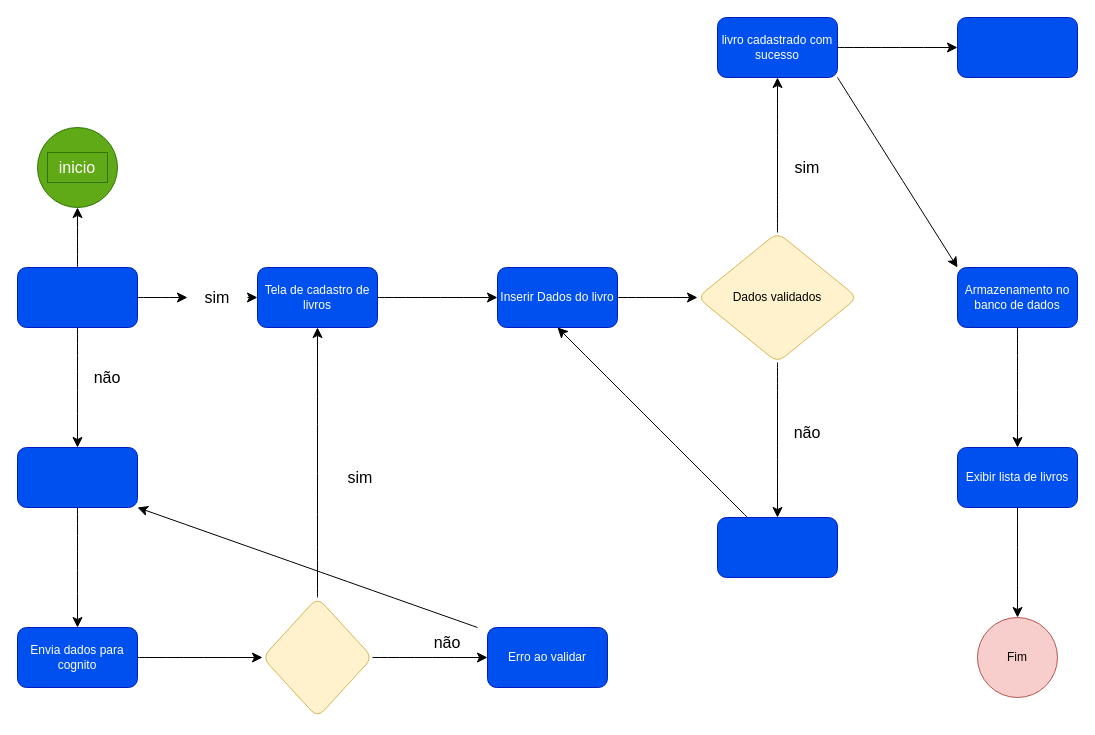
Image size: 1095x735. Some labels were removed from this diagram. Each missing label, with the centre of its shape:
"Autenticação valida" goes at point (317, 657).
"Erro ao cadastrar livro" goes at point (777, 547).
"Tela de autenticação" goes at point (77, 477).
"Upload de arquivo p/ s3" goes at point (1017, 47).
"Usuário autenticado" goes at point (77, 297).
